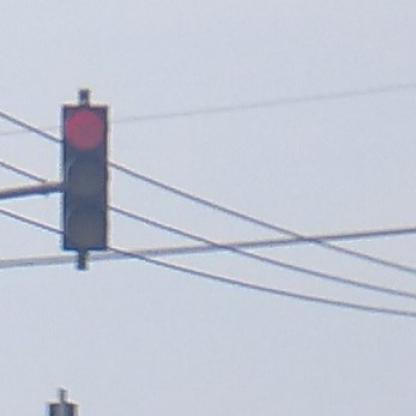red: (58, 103, 110, 252)
